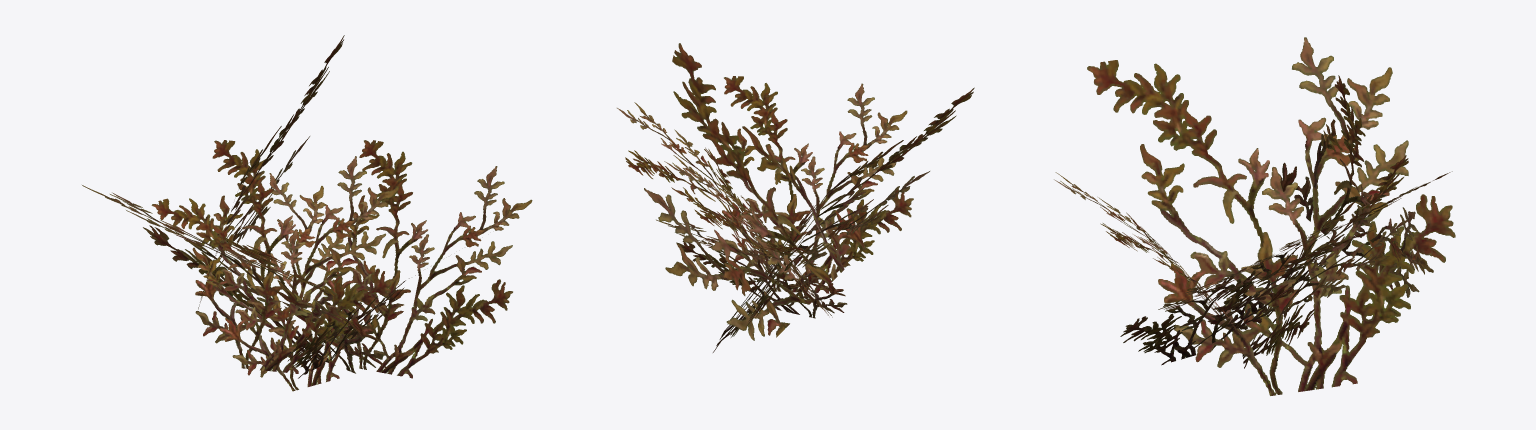
The model's file is SM_EN_2006_zhiwu02.FBX.
3 renders of one model, left to right at view 1: azimuth 30°, elevation 25°; view 2: azimuth 150°, elevation 25°; view 3: azimuth 270°, elevation 25°, orthographic. The views are drawn at different scales.
Parts seen in each view (by area): view 1: SM_EN_2006_zhiwu02; view 2: SM_EN_2006_zhiwu02; view 3: SM_EN_2006_zhiwu02.
Boxes of the visible parts, left/top/right/bottom form: SM_EN_2006_zhiwu02: left=82, top=35, right=532, bottom=391; SM_EN_2006_zhiwu02: left=617, top=43, right=974, bottom=352; SM_EN_2006_zhiwu02: left=1054, top=37, right=1455, bottom=395.
Size of the model in its own units: 252 by 184 by 236.
